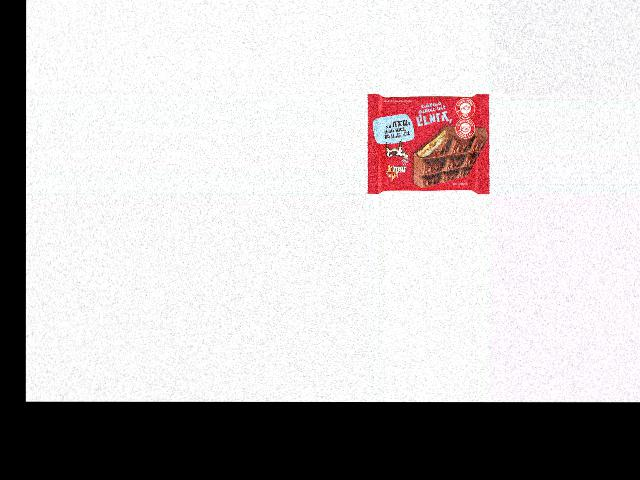chocolate: (371, 92, 488, 192)
